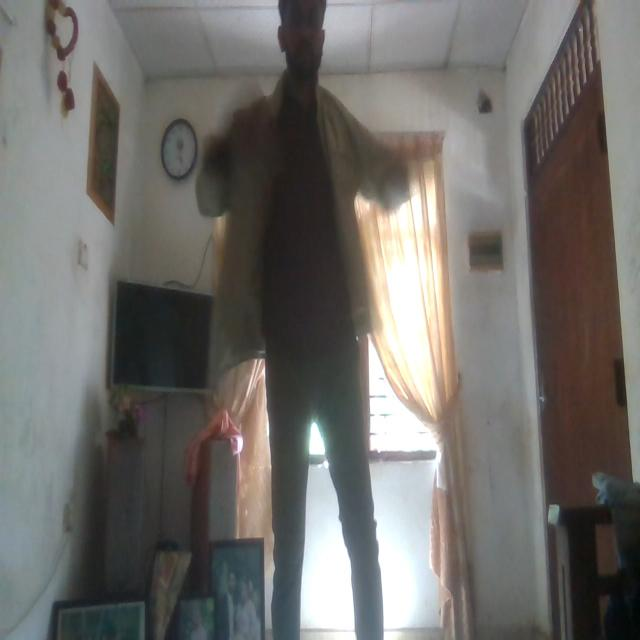Jacket_Wearer: (195, 82, 422, 362)
Person: (203, 0, 419, 640)
